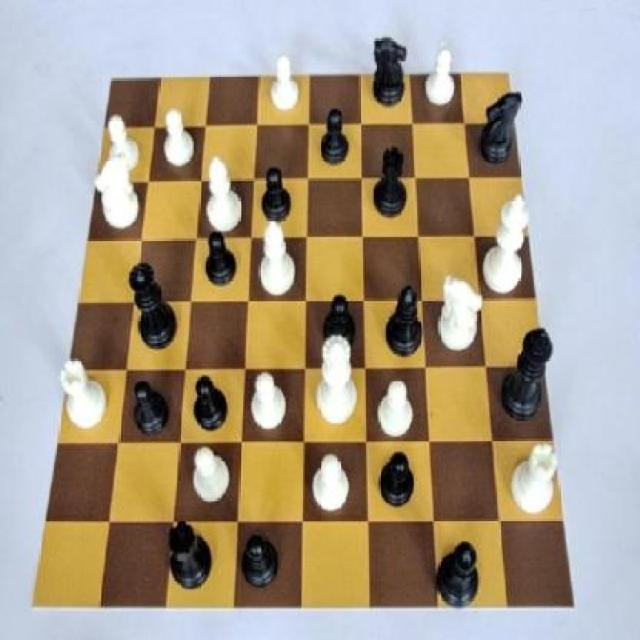bishop: (428, 531, 484, 611), (377, 283, 425, 360)
black-bishop: (497, 321, 560, 424)
black-king: (475, 83, 523, 171), (364, 29, 412, 110)
black-knight: (236, 526, 284, 602), (317, 288, 365, 363), (374, 448, 421, 519), (312, 98, 357, 172), (188, 368, 232, 443), (124, 378, 174, 442), (257, 155, 298, 228), (198, 226, 238, 292)
black-pawn: (123, 259, 182, 356)
black-queen: (164, 518, 220, 602), (369, 142, 418, 222)
black-rook: (256, 214, 300, 307), (203, 154, 245, 237)
white-bishop: (478, 191, 537, 298)
white-king: (88, 148, 144, 234), (434, 272, 485, 362)
white-knight: (305, 448, 353, 518), (100, 110, 148, 178), (189, 443, 234, 515), (374, 380, 418, 449), (157, 105, 202, 170), (246, 371, 289, 438), (265, 54, 307, 121), (422, 40, 458, 112)
white-pawn: (309, 335, 357, 430)
white-queen: (51, 352, 113, 437), (506, 440, 565, 518)
